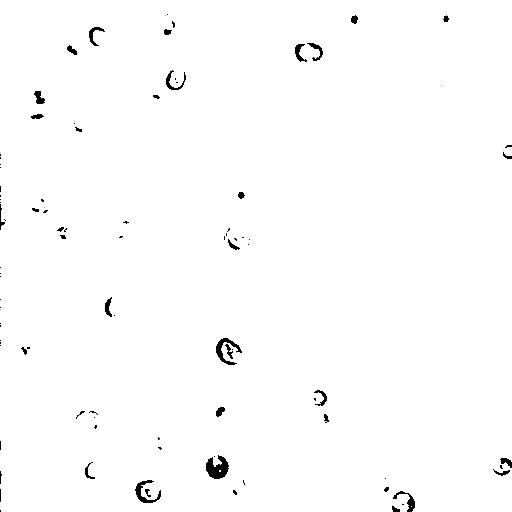micro-algae: (49, 379, 148, 485), (293, 424, 371, 505), (77, 78, 141, 141), (434, 9, 497, 67), (49, 166, 105, 226), (50, 308, 99, 357), (202, 34, 246, 79), (468, 102, 512, 146), (239, 350, 280, 392), (143, 381, 186, 420), (127, 405, 166, 441), (428, 0, 462, 34), (20, 104, 53, 139), (151, 10, 184, 45), (1, 465, 26, 510), (21, 404, 53, 439), (72, 408, 104, 440), (222, 221, 255, 252), (68, 106, 98, 139), (21, 187, 53, 217), (472, 40, 502, 70), (339, 5, 367, 36), (215, 336, 243, 367), (205, 397, 237, 424), (133, 478, 164, 505), (203, 454, 232, 482), (293, 40, 324, 64), (26, 83, 55, 108), (372, 477, 401, 502), (23, 431, 49, 456), (102, 293, 129, 317), (390, 489, 418, 512), (496, 420, 512, 459), (165, 66, 188, 93), (15, 337, 37, 364), (60, 38, 84, 62), (88, 25, 110, 48), (262, 91, 284, 114), (491, 230, 511, 254), (52, 222, 73, 244), (82, 460, 105, 480), (111, 219, 136, 237), (491, 456, 512, 477), (308, 387, 329, 407), (230, 473, 248, 496), (152, 434, 172, 451), (1, 444, 14, 470), (320, 409, 339, 426), (233, 189, 250, 205), (2, 206, 10, 230), (501, 143, 512, 159)
